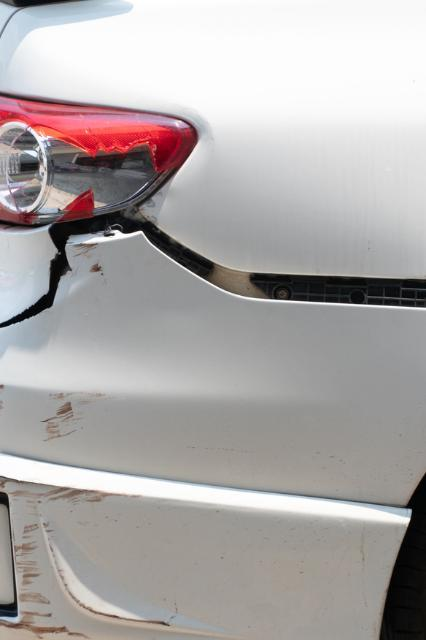Bumper: (4, 230, 426, 640)
Light: (0, 92, 179, 222)
